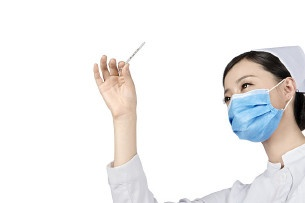Mask: (220, 73, 282, 135)
